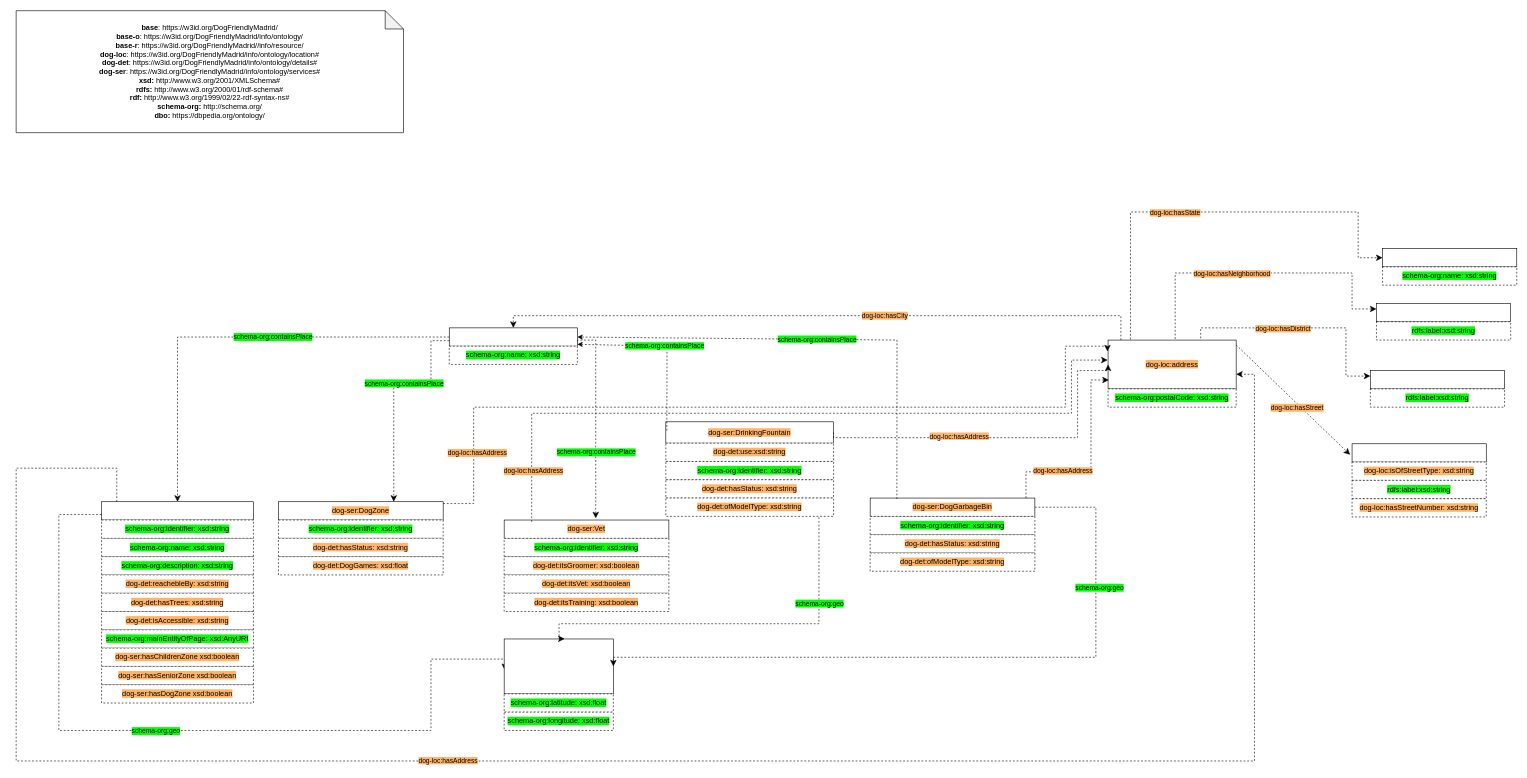
Image size: 1527x778. Some labels were removed from this diagram. Here are the shapes that lost their labels. From the top down, the centre of each, then its label:
At [1449,257]: "schema-org:State".
At [1443,312]: "dog-loc:Neighborhood".
At [513,336]: "schema-org:City".
At [1437,379]: "dog-loc:District".
At [1418,452]: "dog-loc:thoroughfare".
At [177,510]: "schema-org:Park".
At [558,666]: "schema-org:GeoCoordinates".
